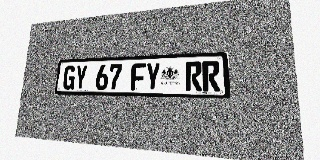6: (95, 64, 109, 90)
7: (108, 64, 122, 90)
F: (131, 63, 146, 90)
G: (63, 65, 76, 90)
R: (202, 61, 220, 91), (185, 61, 202, 91)
Y: (145, 63, 160, 91), (74, 65, 88, 90)
